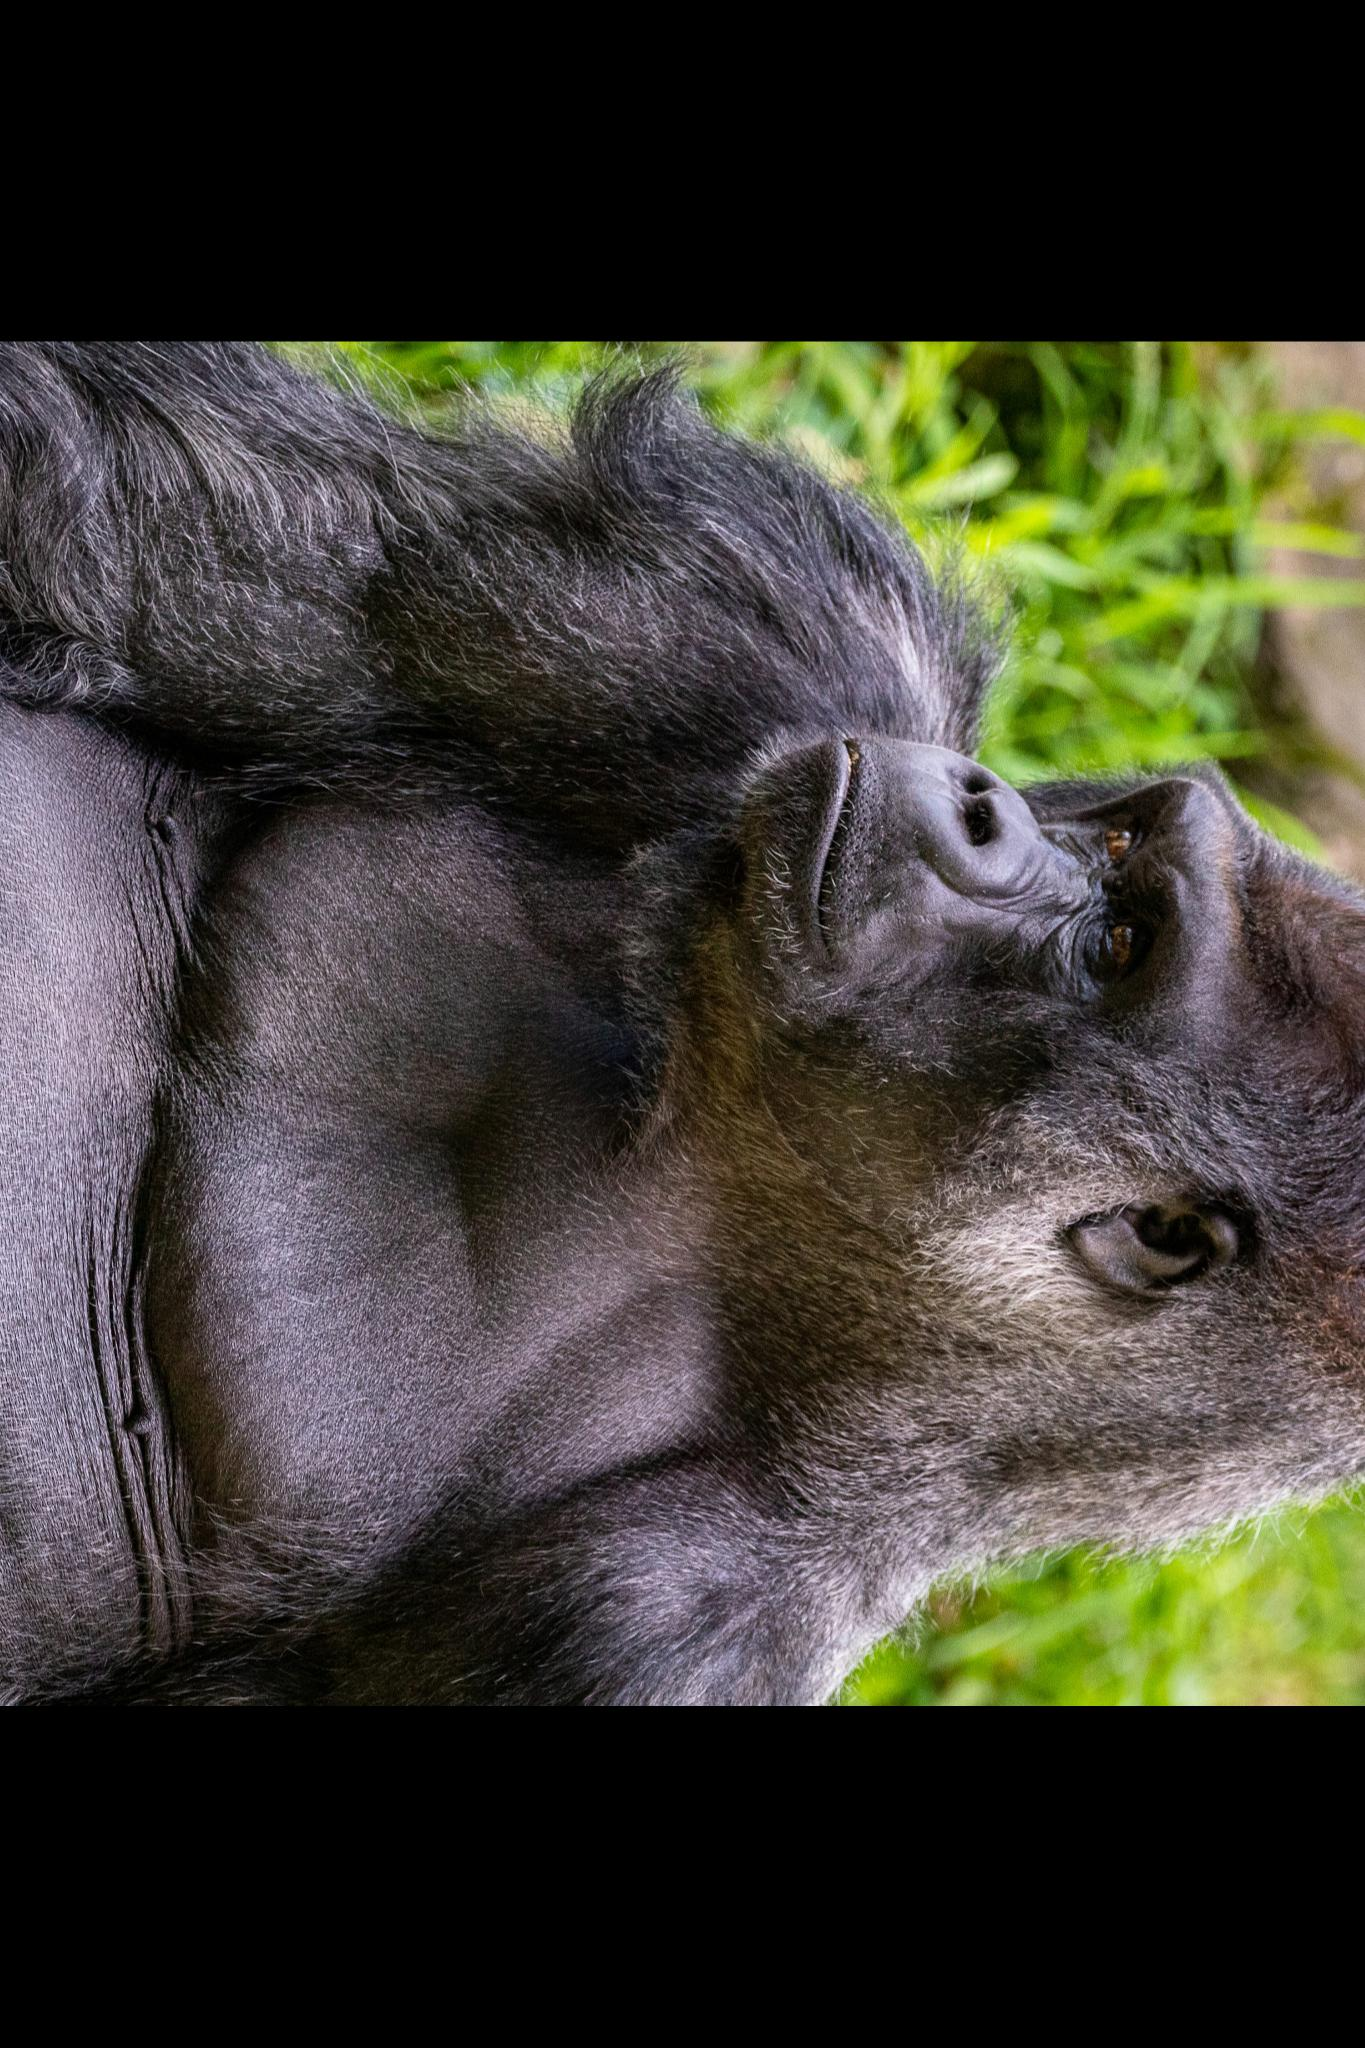gorille_Autres: (0, 341, 1365, 1705)
